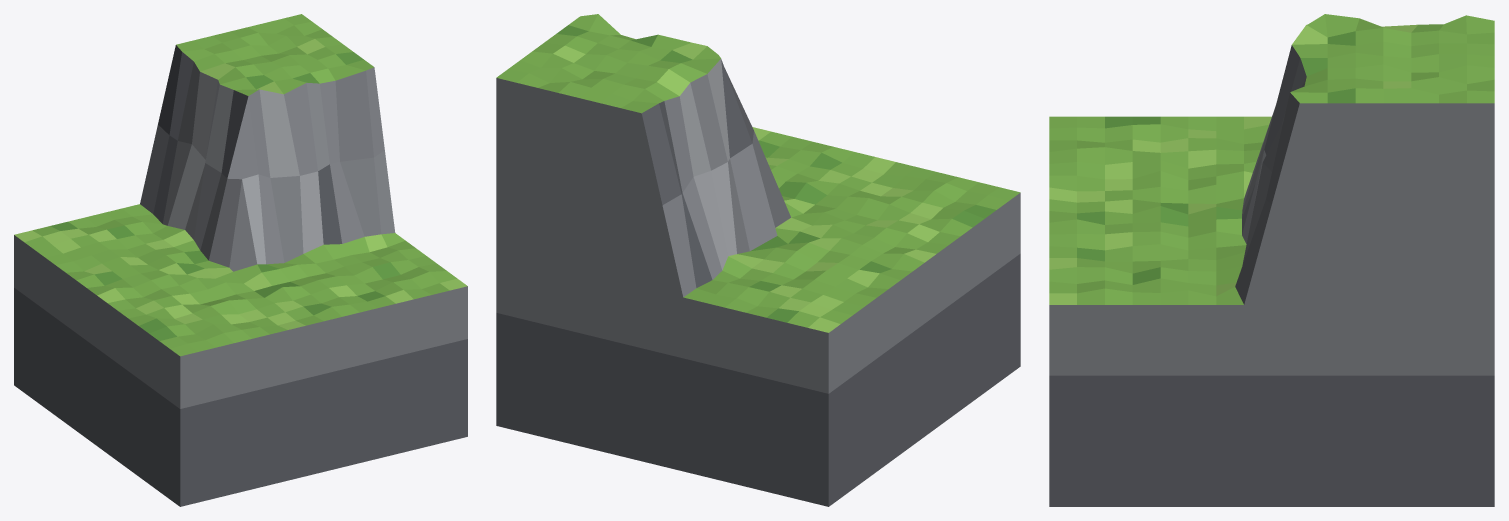
File: Cliff_Corner_Out_A.fbx
3 renders of one model, left to right at view 1: azimuth 30°, elevation 25°; view 2: azimuth 150°, elevation 25°; view 3: azimuth 270°, elevation 25°, orthographic. The views are drawn at different scales.
Visible parts, largest first — view 1: Cliff_Corner_Out_A; view 2: Cliff_Corner_Out_A; view 3: Cliff_Corner_Out_A.
Boxes of the visible parts, <box> form: Cliff_Corner_Out_A: <box>14,14,467,506</box>; Cliff_Corner_Out_A: <box>496,14,1020,506</box>; Cliff_Corner_Out_A: <box>1049,14,1494,506</box>.
Bounding box in the file's own units: 4 × 4.05 × 4.
1 material, 1 textured.
